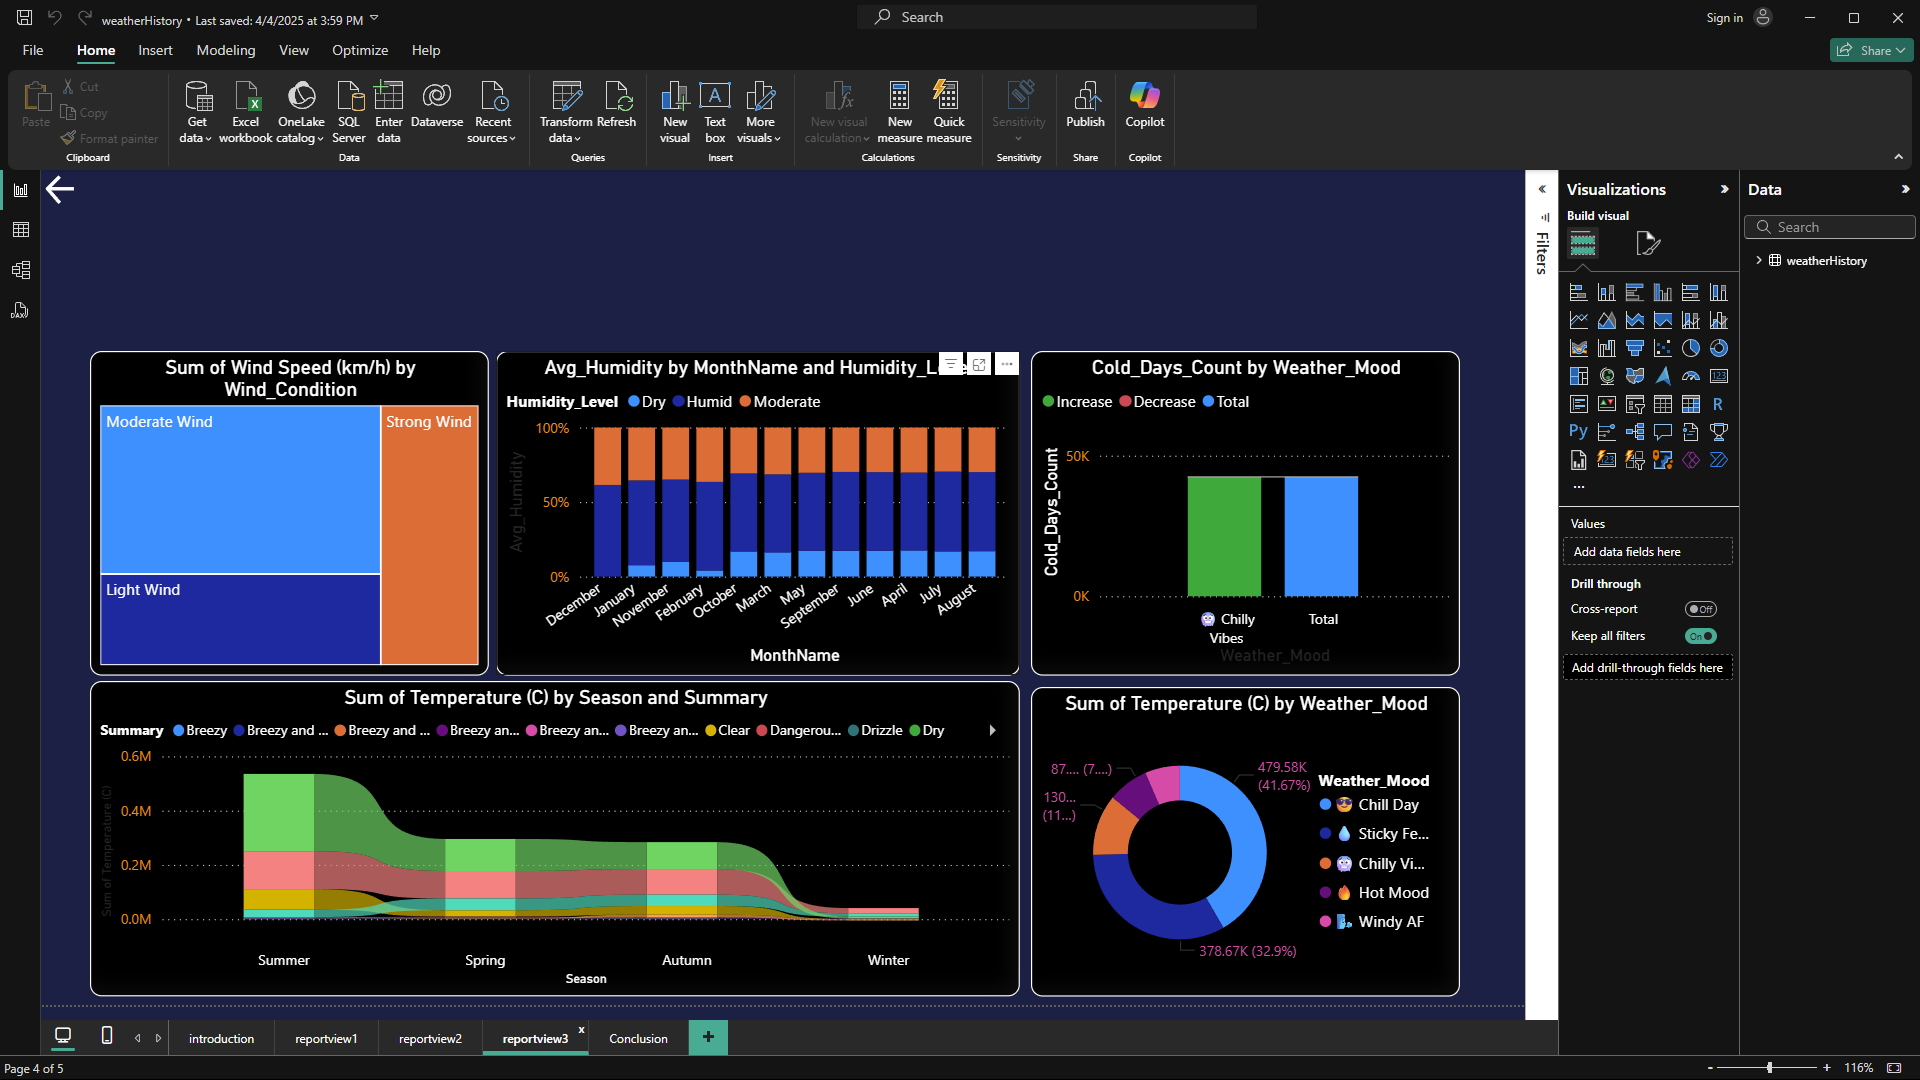

The page's visual inventory and layout, read from the dashboard file:
{"tool":"powerbi","page":{"name":"reportview3","canvas":[1280,720],"ordinal":3},"visuals":[{"type":"treemap","fields":{"Group":["weatherHistory.Wind_Condition"],"Values":["Sum(weatherHistory.Wind Speed (km/h))"]},"box":[41.9,156,344.1,279.9],"z":0},{"type":"hundredPercentStackedColumnChart","fields":{"Category":["weatherHistory.MonthName"],"Y":["weatherHistory.Avg_Humidity"],"Series":["weatherHistory.Humidity_Level"]},"box":[392.2,156,451.9,279.9],"z":1000},{"type":"waterfallChart","fields":{"Category":["weatherHistory.Weather_Mood"],"Y":["weatherHistory.Cold_Days_Count"]},"box":[853.9,156,369.9,279.9],"z":2000},{"type":"donutChart","fields":{"Y":["Sum(weatherHistory.Temperature (C))"],"Category":["weatherHistory.Weather_Mood"]},"box":[853.9,445.7,369.9,266.5],"z":3000},{"type":"ribbonChart","fields":{"Category":["weatherHistory.Season"],"Series":["weatherHistory.Summary"],"Y":["Sum(weatherHistory.Temperature (C))"]},"box":[41.9,440.3,802.2,271.9],"z":4000},{"type":"actionButton","box":[0,0,55.6,34.2],"z":5000}]}

Visuals, with their boxes on the page's 1280x720 design canvas (x1, y1, x2, y2). These are canvas units, not pixel positions in the 1920x1080 screenshot, which may show the page scaled, cropped or inside an application window:
treemap - weatherHistory.Wind_Condition x Sum(weatherHistory.Wind Speed (km/h)): 42,156,386,436
hundredPercentStackedColumnChart - weatherHistory.MonthName x weatherHistory.Avg_Humidity: 392,156,844,436
waterfallChart - weatherHistory.Weather_Mood x weatherHistory.Cold_Days_Count: 854,156,1224,436
donutChart - Sum(weatherHistory.Temperature (C)) x weatherHistory.Weather_Mood: 854,446,1224,712
ribbonChart - weatherHistory.Season x weatherHistory.Summary: 42,440,844,712
actionButton: 0,0,56,34
